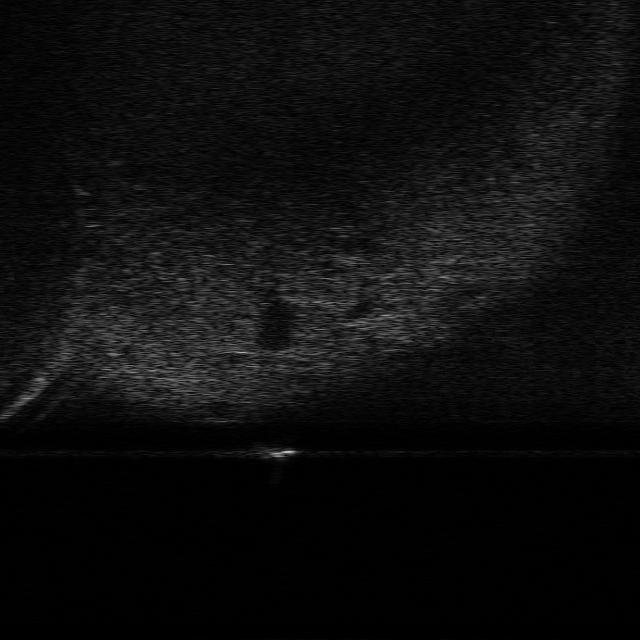cube: (245, 440, 304, 463)
